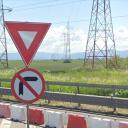NoVirarDireita: (5, 68, 53, 111)
preferencia: (2, 20, 53, 68)
